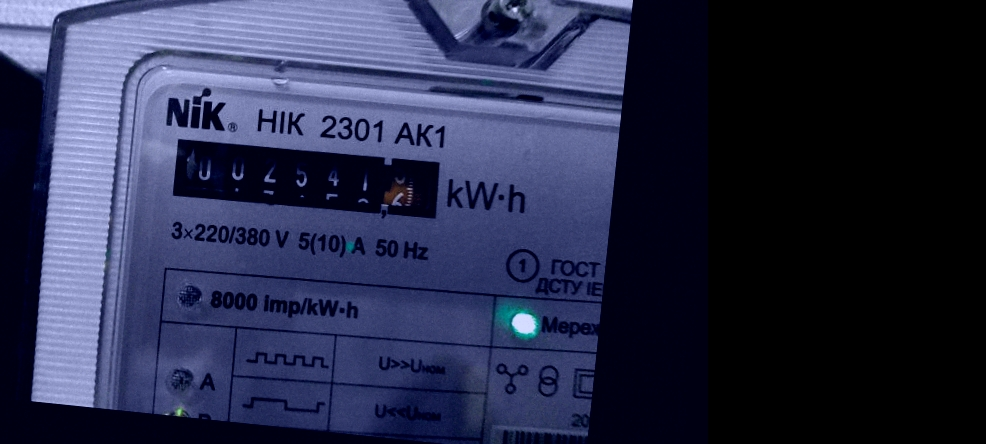0: (227, 149, 249, 183), (196, 151, 215, 182)
1: (354, 159, 373, 193)
2: (257, 151, 282, 187)
4: (323, 157, 344, 189)
5: (291, 156, 310, 190)
6: (388, 186, 406, 209)
screen: (155, 119, 463, 239)
